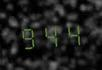four: (40, 20, 60, 49), (61, 19, 81, 47)
nine: (18, 22, 38, 50)
